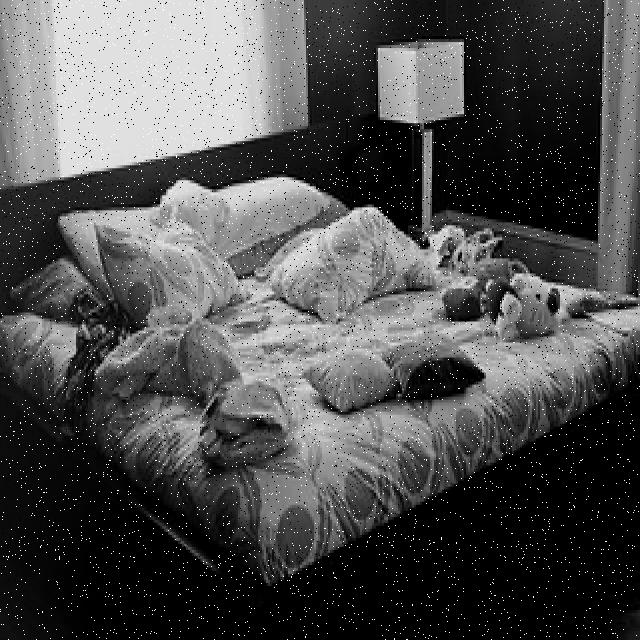bed: (0, 175, 640, 582)
